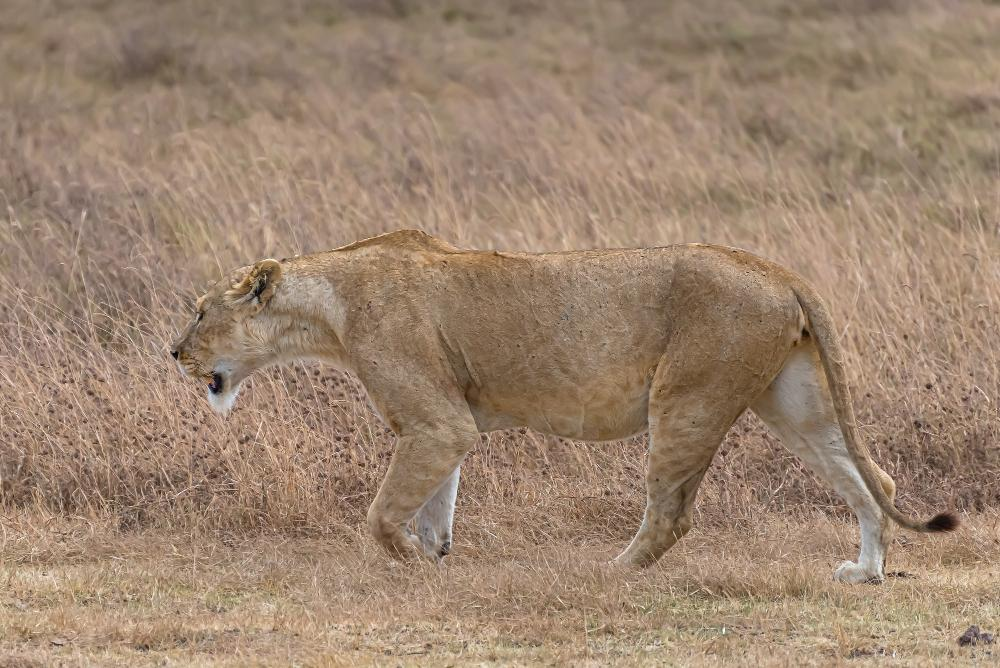lioness: (172, 225, 965, 588)
